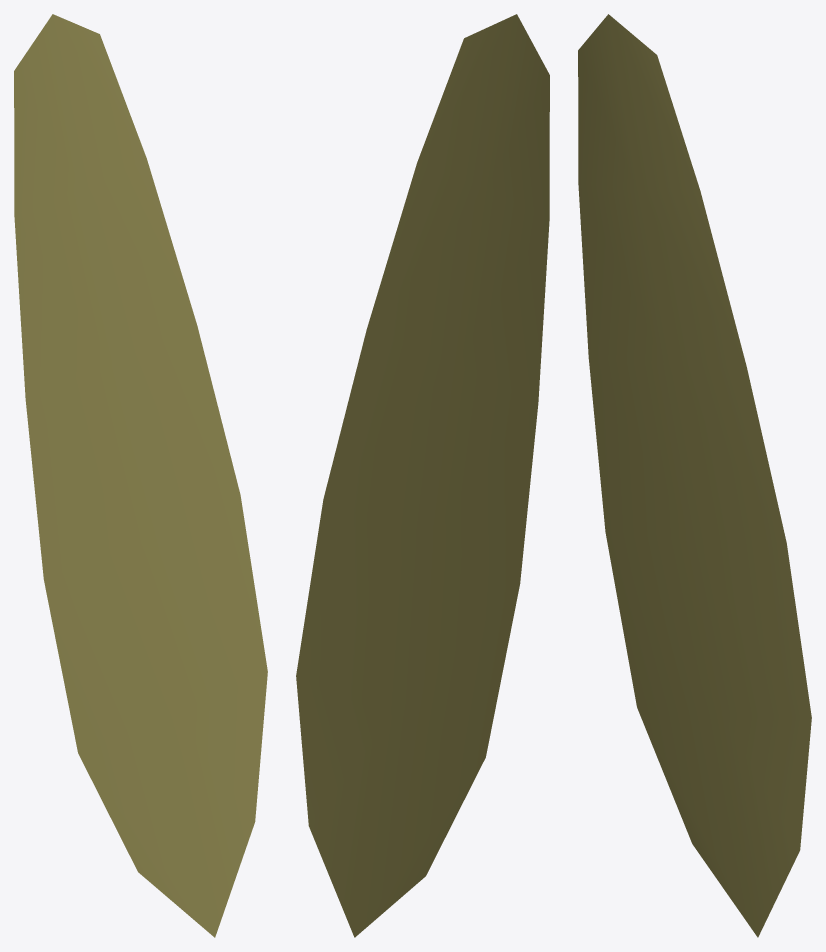
The model's file is lovebird_feather_flight_primary_008.obj.
3 views of the same model, side by side, from view 1: azimuth 30°, elevation 25°; view 2: azimuth 150°, elevation 25°; view 3: azimuth 330°, elevation 25° (orthographic). The views are drawn at different scales.
Visible parts, largest first — view 1: feather_flight_primary_008; view 2: feather_flight_primary_008; view 3: feather_flight_primary_008.
Part boxes in pixels (x1,y1,x2,y2): feather_flight_primary_008: [14, 14, 267, 937]; feather_flight_primary_008: [296, 14, 549, 937]; feather_flight_primary_008: [578, 14, 811, 937].
Bounding box in the file's own units: 0.00829 × 0.0301 × 0.00016.
